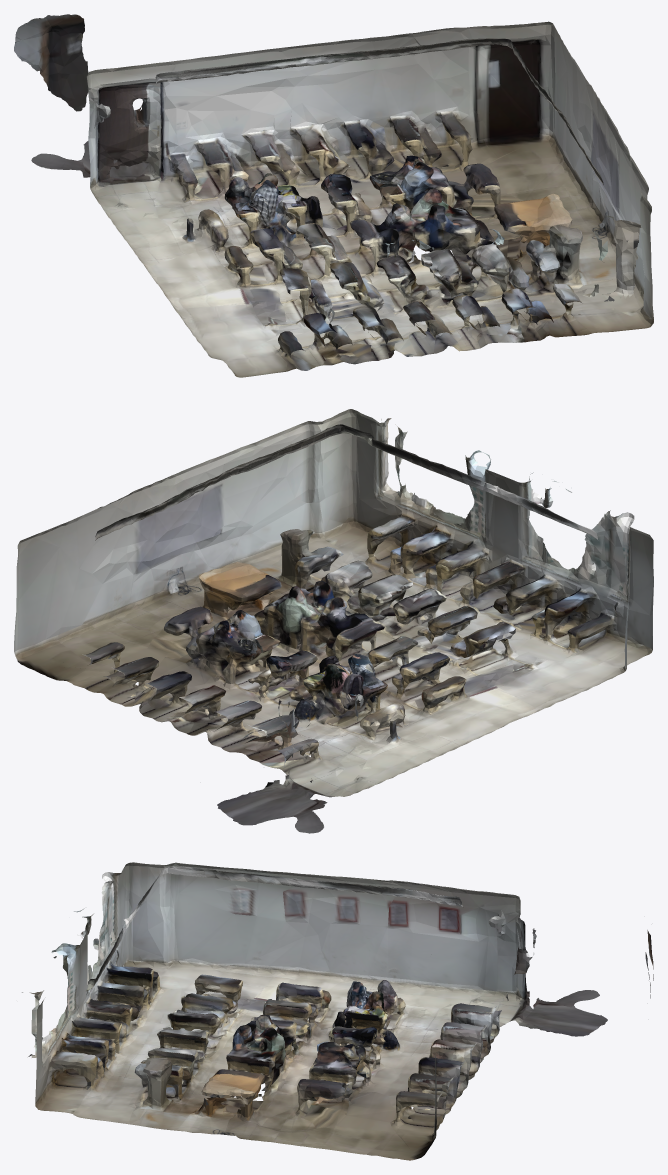
The model's file is Room_702_compressed.glb.
3 views of the same model, one above another, from view 1: azimuth 30°, elevation 25°; view 2: azimuth 150°, elevation 25°; view 3: azimuth 270°, elevation 25° (orthographic). The views are drawn at different scales.
Visible parts, largest first — view 1: mesh; view 2: mesh; view 3: mesh.
Boxes of the visible parts, x1,y1,x2,y2 form: mesh: (14,14,653,377); mesh: (14,409,653,833); mesh: (22,862,653,1160).
Size of the model in its own units: 10.89 by 3.02 by 14.7.
1 material, 1 textured.
